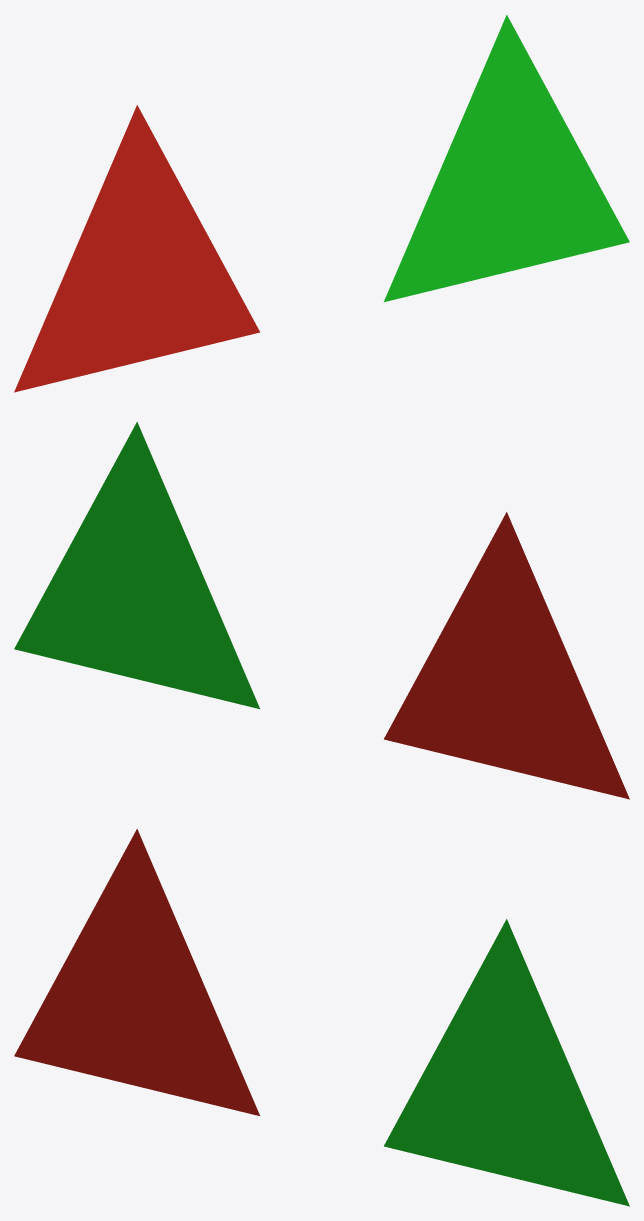
The model's file is two-tone.glb.
3 renders of one model, top to bottom at view 1: azimuth 30°, elevation 25°; view 2: azimuth 150°, elevation 25°; view 3: azimuth 330°, elevation 25°, orthographic.
Parts seen in each view (by area): view 1: Triangle receiver; view 2: Triangle receiver; view 3: Triangle receiver.
Part boxes in pixels (left/top/right/bottom): Triangle receiver: left=14, top=15, right=629, bottom=392; Triangle receiver: left=14, top=422, right=629, bottom=799; Triangle receiver: left=14, top=829, right=629, bottom=1206.
Bounding box in the file's own units: 5 × 2 × 0.
